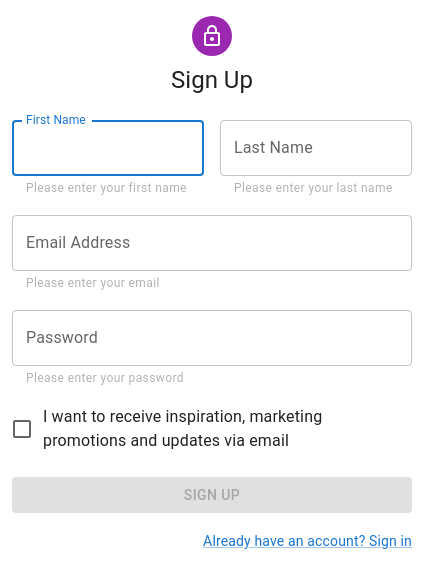
Test: Page SignUp › should check first name validation
Check: the text "First uppercased letter" is not shown
Step 1. Type "firstname" into the field with test id "first-name-input" → [108, 148], box 12,120 -> 204,176
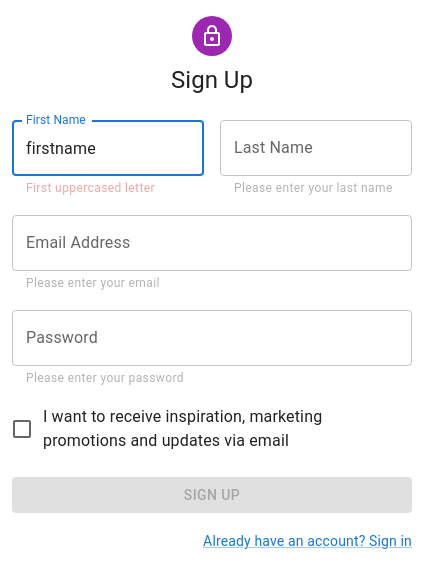
Check: the text "First uppercased letter" is shown, box 26,181 -> 155,195
Step 2. Replace the text in the field with test id "first-name-input" with "Firstname" → [108, 148], box 12,120 -> 204,176
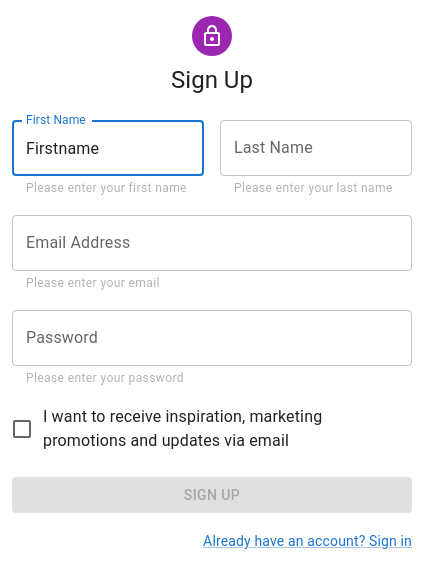
Check: the text "First uppercased letter" is gone
